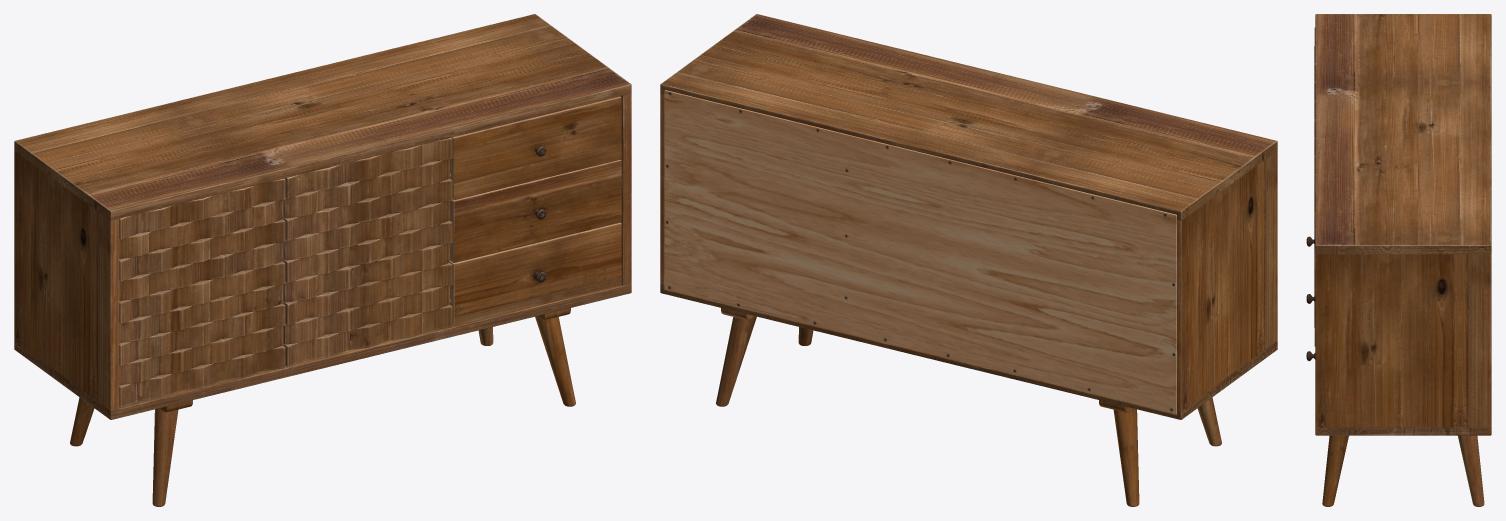
The model's file is sideboard.glb.
3 views of the same model, side by side, from view 1: azimuth 30°, elevation 25°; view 2: azimuth 150°, elevation 25°; view 3: azimuth 270°, elevation 25° (orthographic). The views are drawn at different scales.
Parts seen in each view (by area): view 1: RootNode; view 2: RootNode; view 3: RootNode.
Boxes of the visible parts, x1,y1,x2,y2 form: RootNode: (14, 14, 631, 506); RootNode: (660, 14, 1277, 506); RootNode: (1306, 14, 1491, 506).
Size of the model in its own units: 1.4 by 0.8002 by 0.4723.
1 material, 1 textured.
